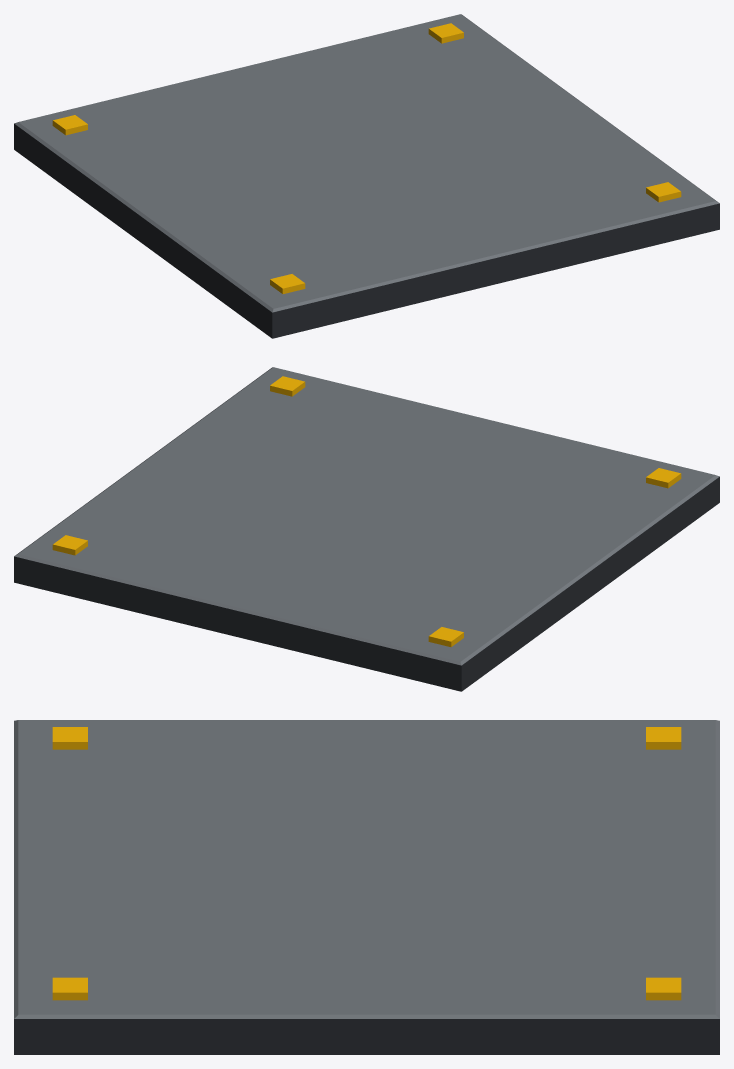
Rendered from boden_stahl_a.glb.
The picture shows the model from 3 angles, top to bottom: view 1: azimuth 30°, elevation 25°; view 2: azimuth 150°, elevation 25°; view 3: azimuth 270°, elevation 25°; orthographic projection. The views are drawn at different scales.
Visible parts, largest first — view 1: boden_stahl_a; view 2: boden_stahl_a; view 3: boden_stahl_a.
Part boxes in pixels (x1,y1,x2,y2): boden_stahl_a: (14, 14, 719, 338); boden_stahl_a: (14, 367, 719, 691); boden_stahl_a: (14, 720, 719, 1054).
Size of the model in its own units: 1 by 0.072 by 1.
